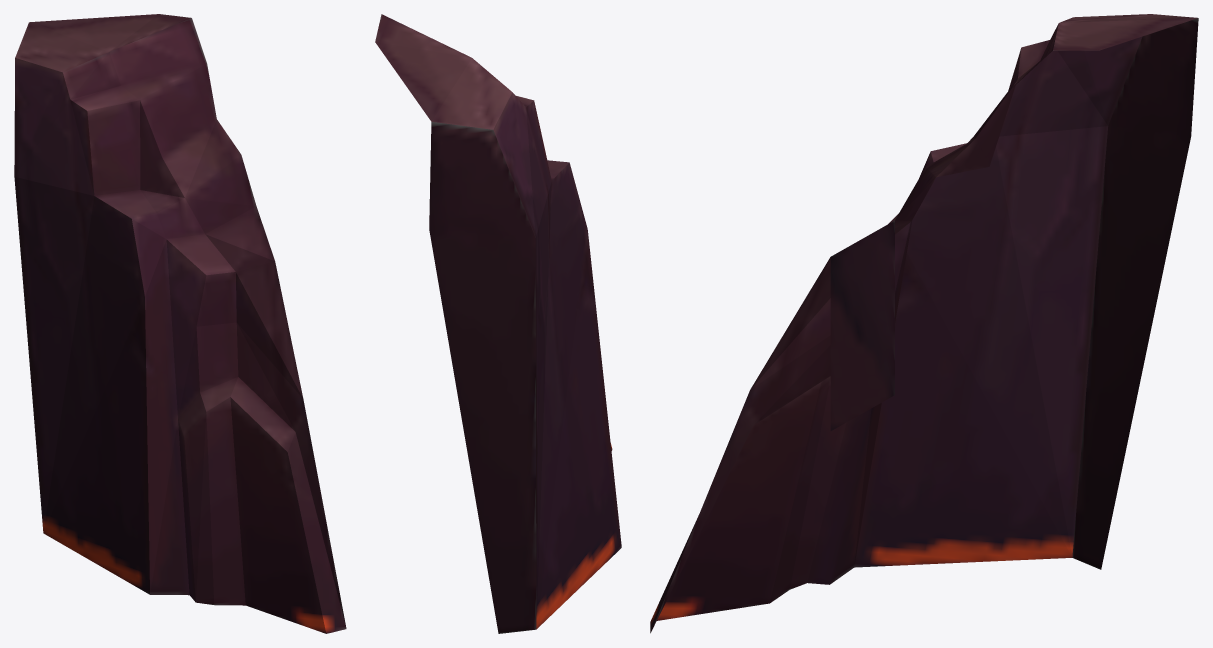
Rendered from suishi_11.FBX.
The picture shows the model from 3 angles, left to right: view 1: azimuth 30°, elevation 25°; view 2: azimuth 150°, elevation 25°; view 3: azimuth 270°, elevation 25°; orthographic projection. The views are drawn at different scales.
Parts seen in each view (by area): view 1: suishi_11; view 2: suishi_11; view 3: suishi_11.
Boxes of the visible parts, x1,y1,x2,y2 form: suishi_11: (14, 14, 346, 633); suishi_11: (375, 14, 621, 633); suishi_11: (650, 14, 1198, 633).
Bounding box in the file's own units: 3.07 × 9.22 × 7.76.
